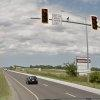Traffic light: (27, 4, 96, 40)
